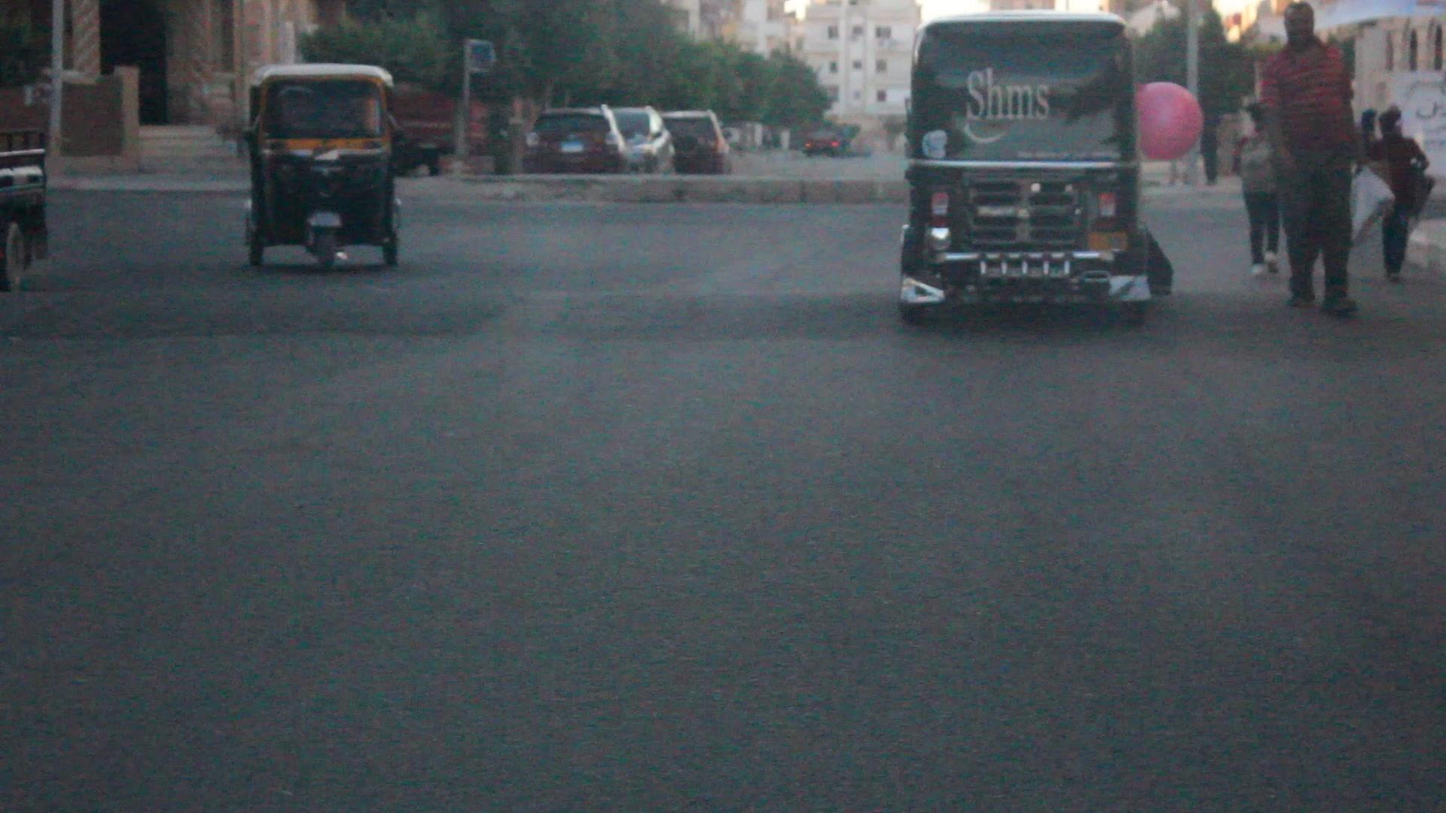Bump: (6, 269, 891, 339), (1154, 282, 1446, 352)
